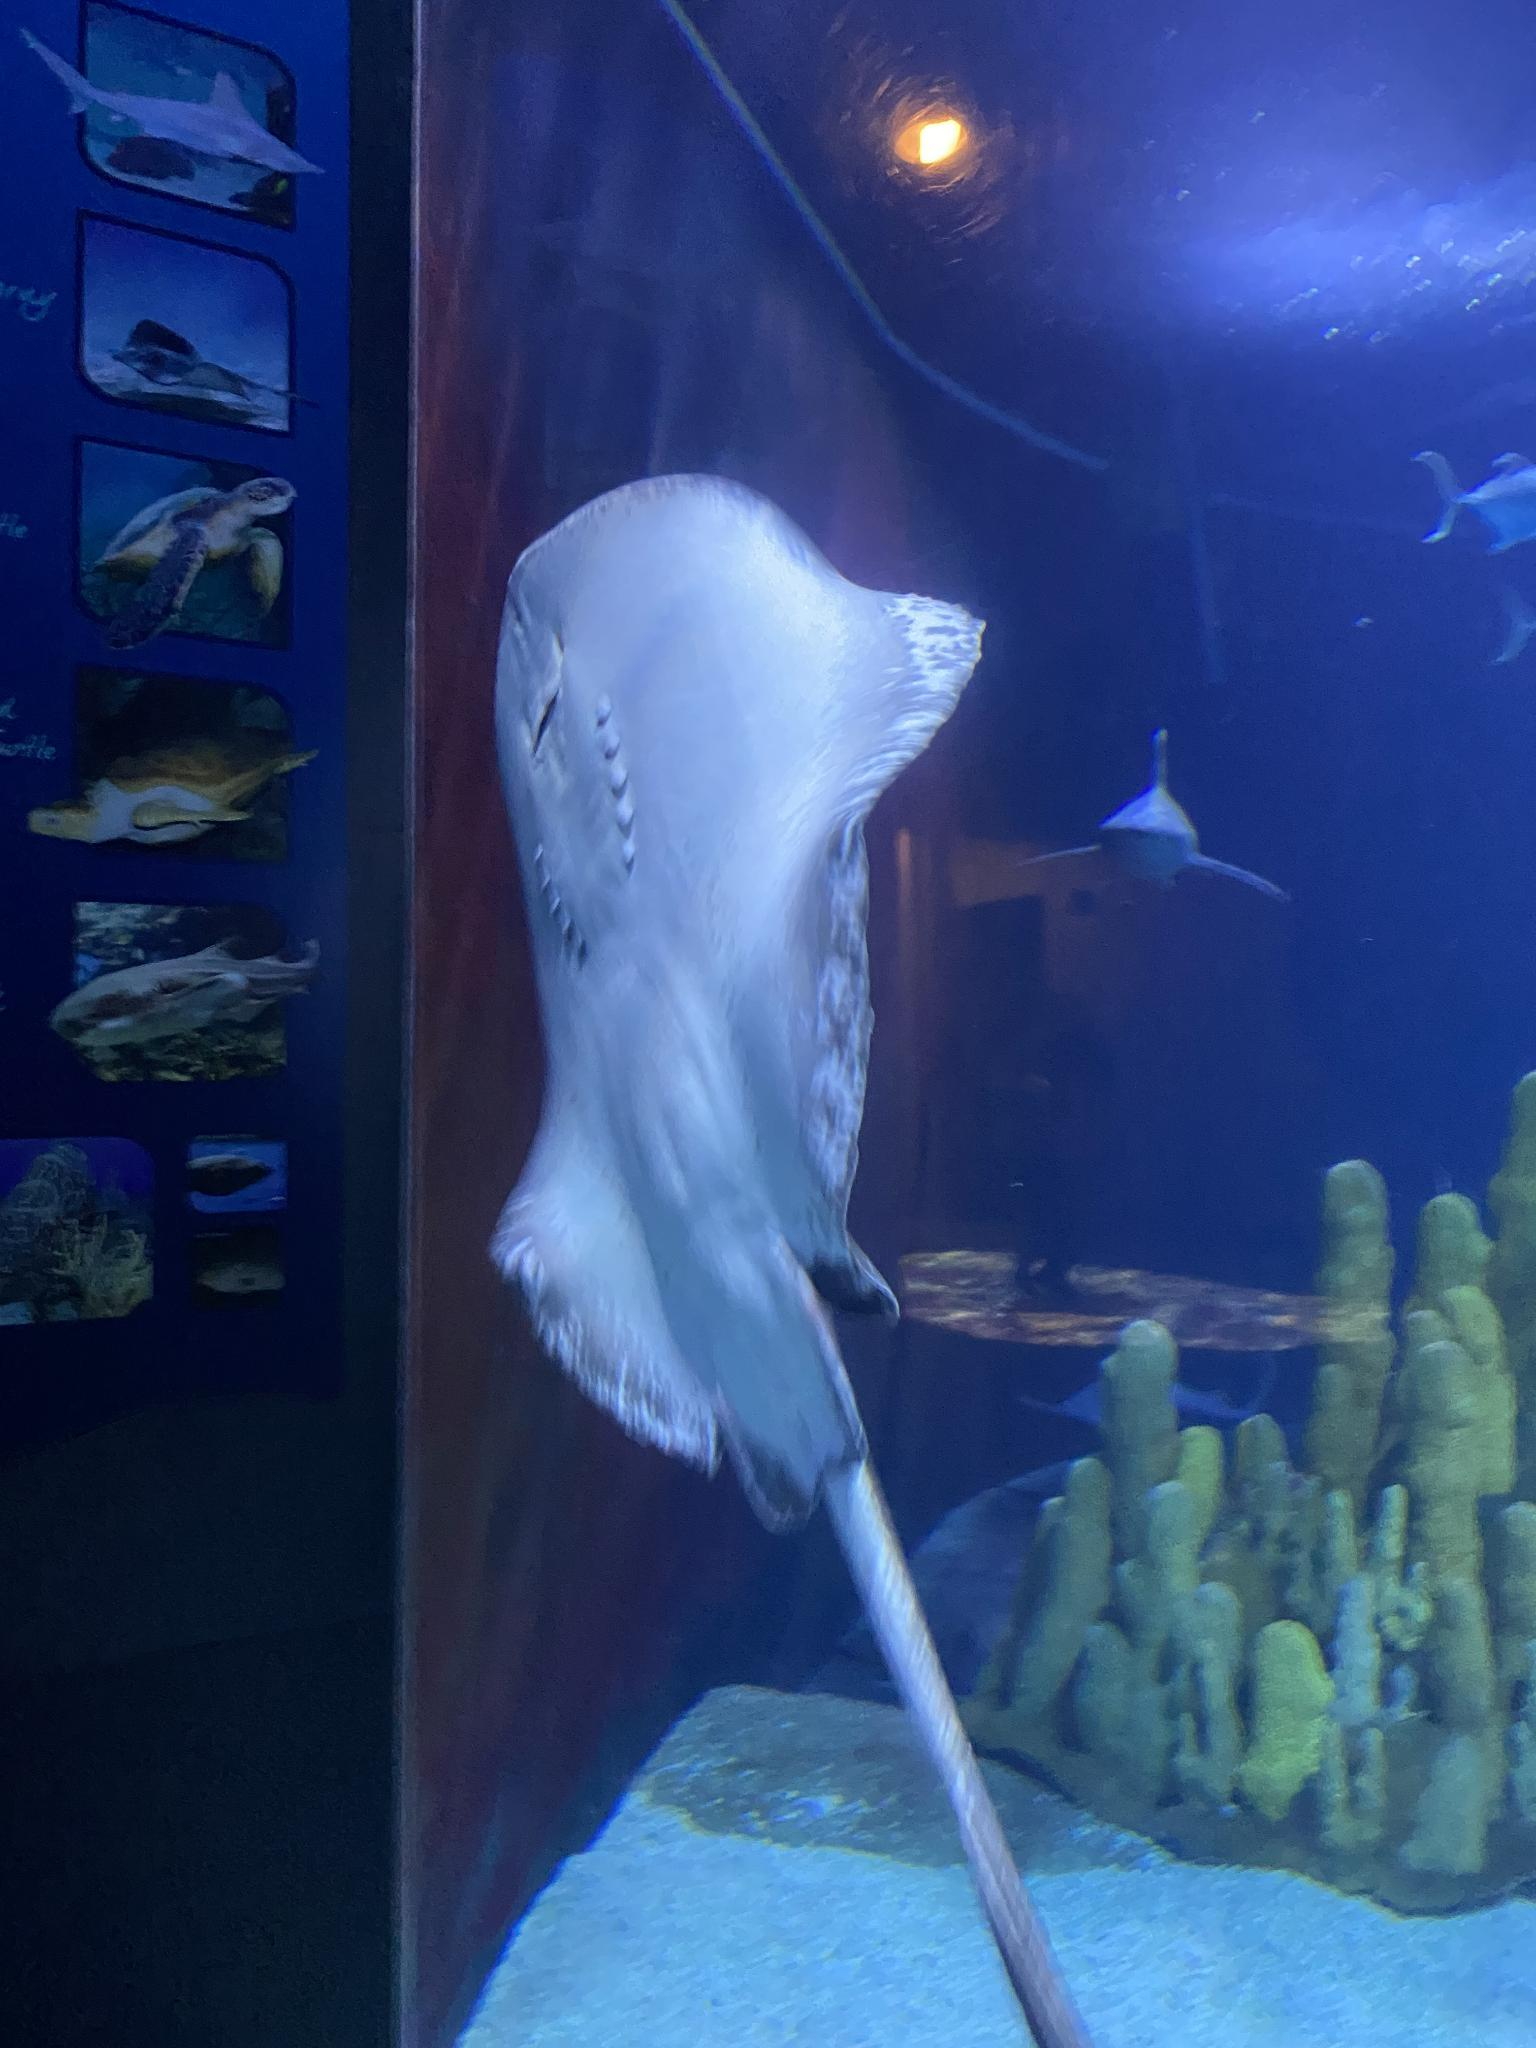fish: (1409, 448, 1534, 560), (1484, 579, 1536, 669)
shark: (1020, 726, 1296, 922)
stingray: (490, 458, 983, 1535)
